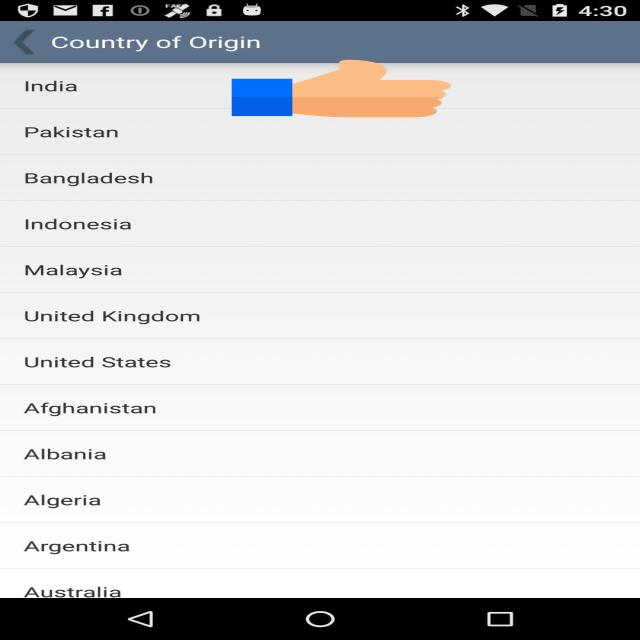privacy zuckering: (232, 58, 451, 119)
